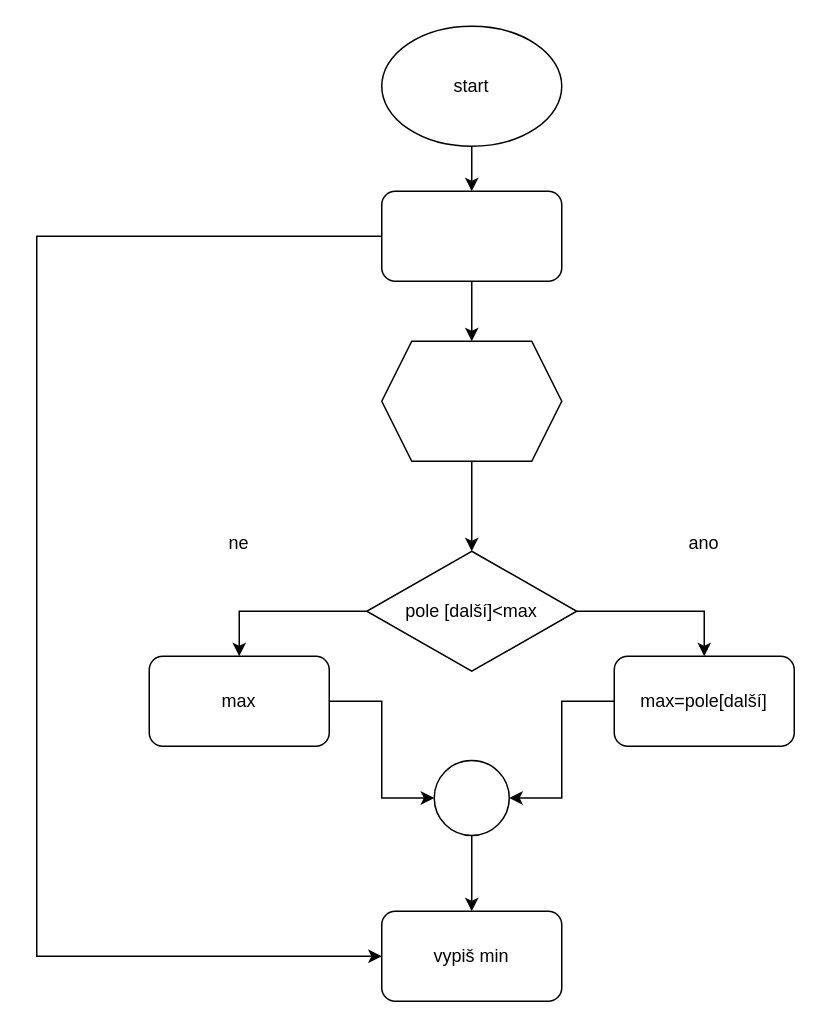
Image size: 821x1028. Some labels were removed from this diagram. Each missing label, with the centre of its shape:
"existuje pole [další]" goes at (x=471, y=400).
"poleš,max=pole[0]" goes at (x=471, y=235).
